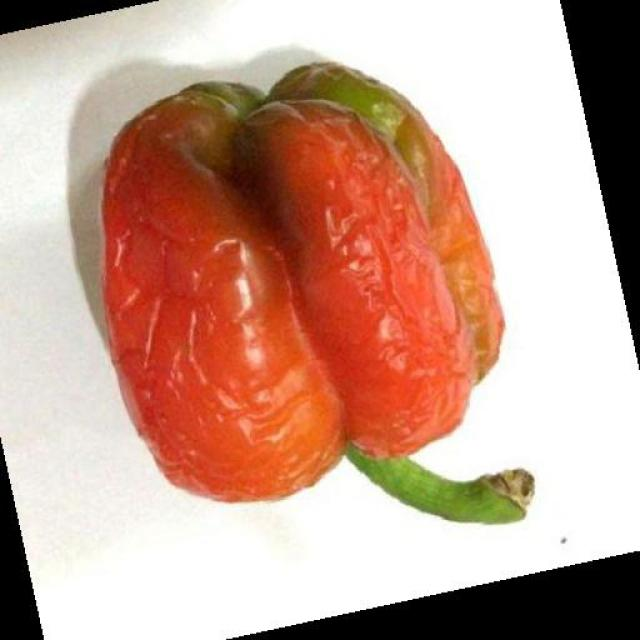Stale_Capsicum: (129, 65, 564, 528)
